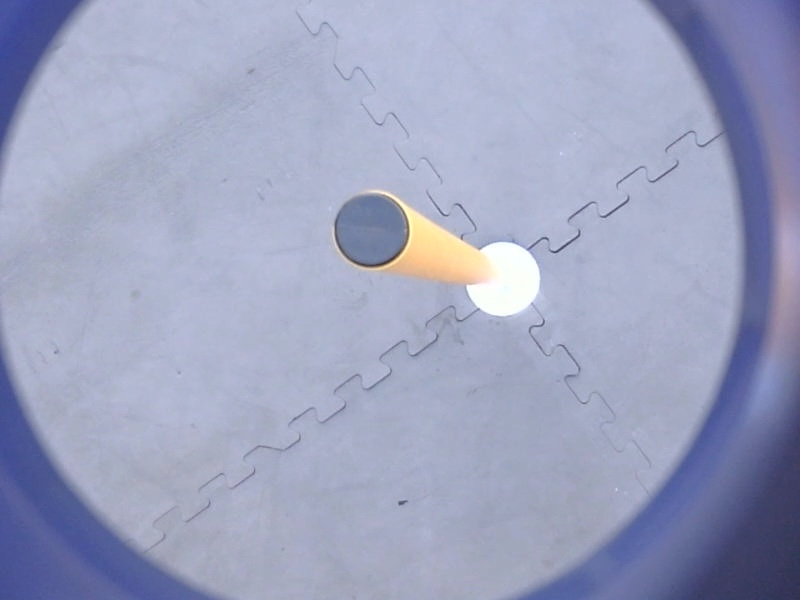tip: (327, 186, 415, 274)
